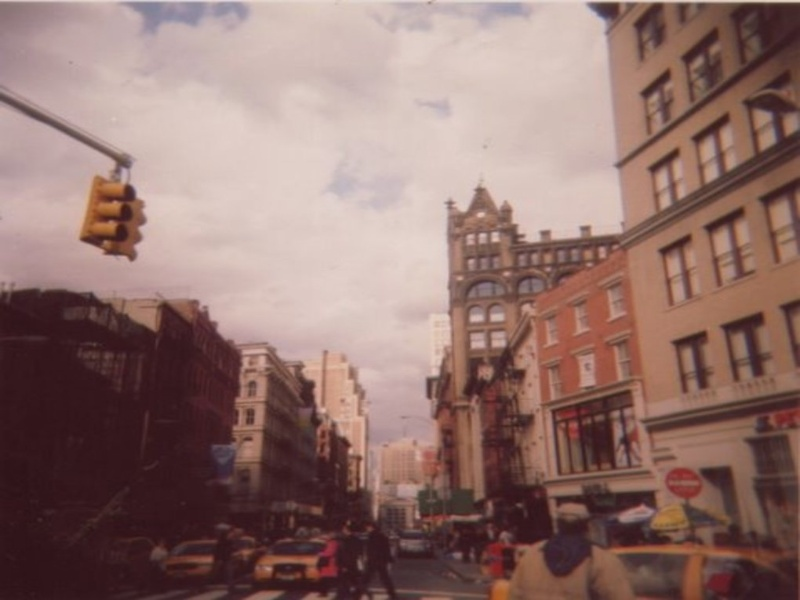no_entry: (662, 464, 709, 503)
